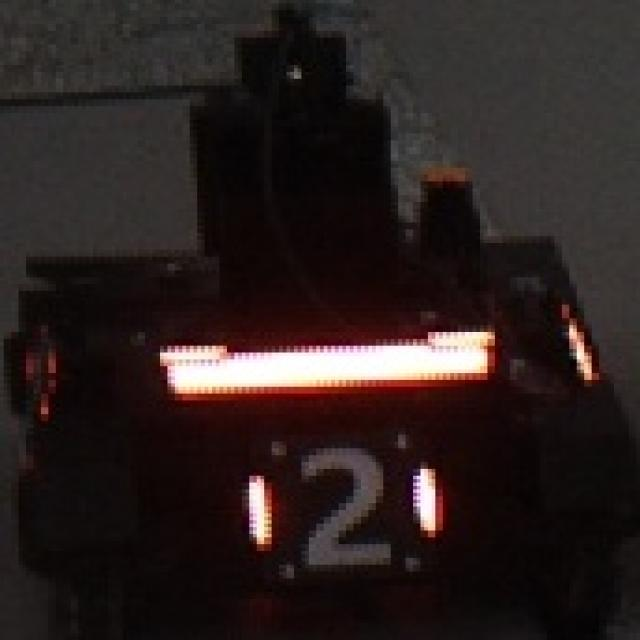R2: (242, 445, 443, 565)
